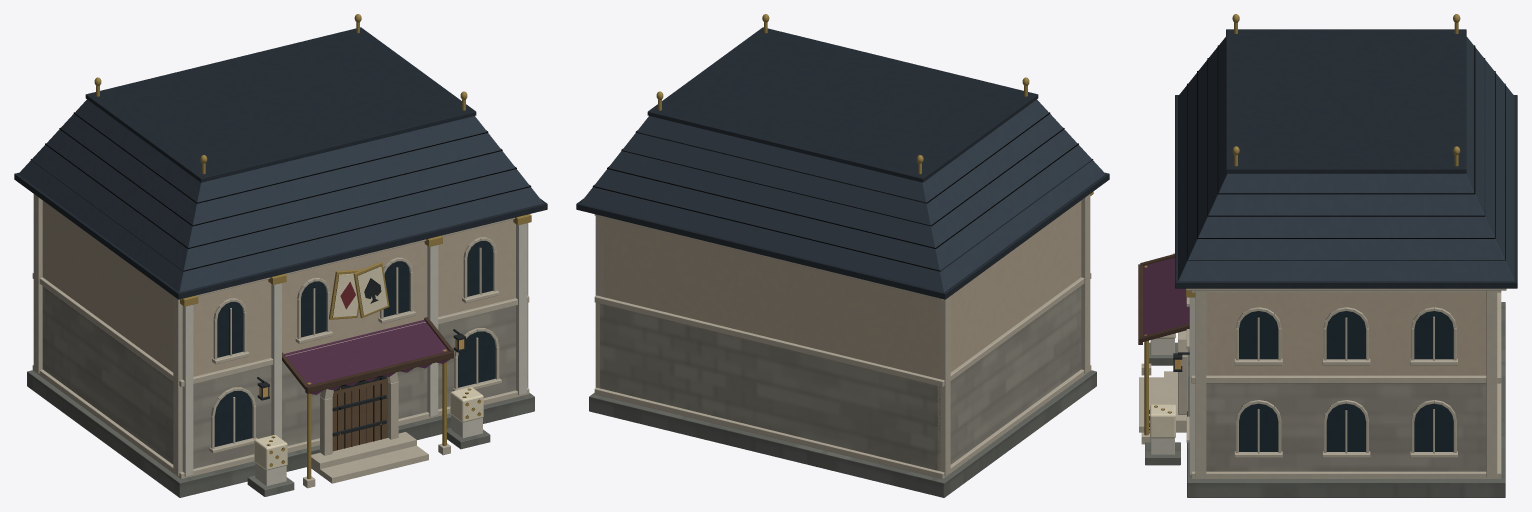
The model's file is Casino.fbx.
3 renders of one model, left to right at view 1: azimuth 30°, elevation 25°; view 2: azimuth 150°, elevation 25°; view 3: azimuth 270°, elevation 25°, orthographic. The views are drawn at different scales.
Visible parts, largest first — view 1: Casino.001; view 2: Casino.001; view 3: Casino.001.
Part boxes in pixels (bbox=[...]): Casino.001: bbox=[14, 14, 547, 497]; Casino.001: bbox=[576, 14, 1109, 497]; Casino.001: bbox=[1138, 14, 1517, 497].
Size of the model in its own units: 12.21 by 9.93 by 10.42.
